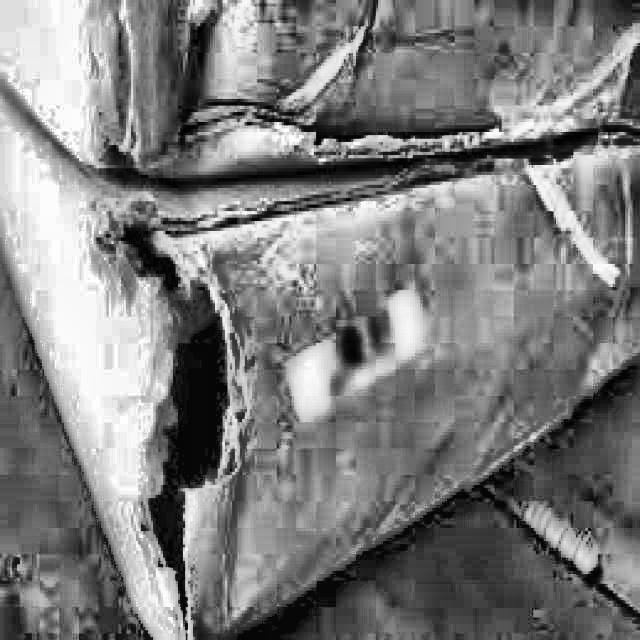box: (0, 0, 639, 639)
hole: (107, 224, 251, 622)
